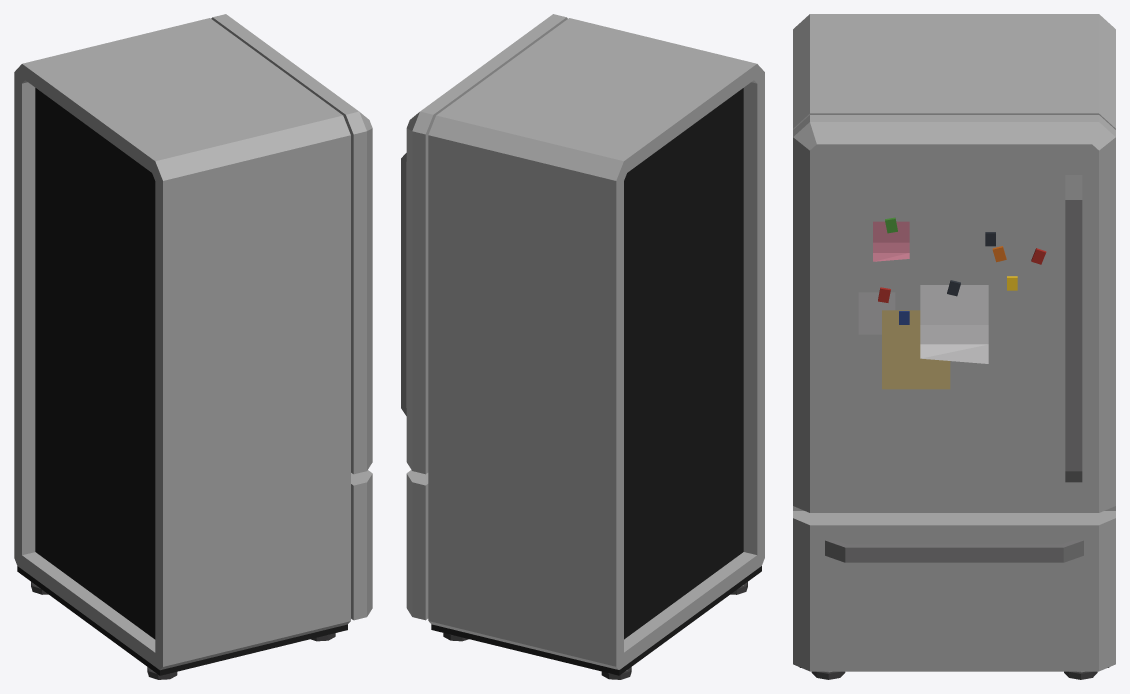
File: SM_kitchenFridge_01.glb
3 views of the same model, side by side, from view 1: azimuth 30°, elevation 25°; view 2: azimuth 150°, elevation 25°; view 3: azimuth 270°, elevation 25° (orthographic). The views are drawn at different scales.
Parts seen in each view (by area): view 1: SM_kitchenFridge_01; view 2: SM_kitchenFridge_01; view 3: SM_kitchenFridge_01.
Boxes of the visible parts, bbox=[...] form: SM_kitchenFridge_01: bbox=[14, 14, 372, 679]; SM_kitchenFridge_01: bbox=[401, 14, 764, 679]; SM_kitchenFridge_01: bbox=[793, 14, 1115, 679].
Size of the model in its own units: 0.86 by 1.86 by 0.96.
1 material, 1 textured.
